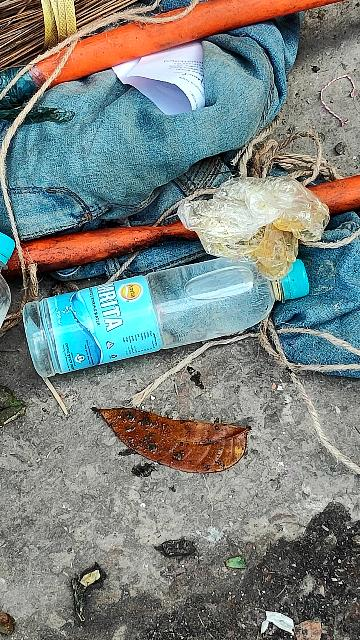bottle: (17, 253, 347, 384)
